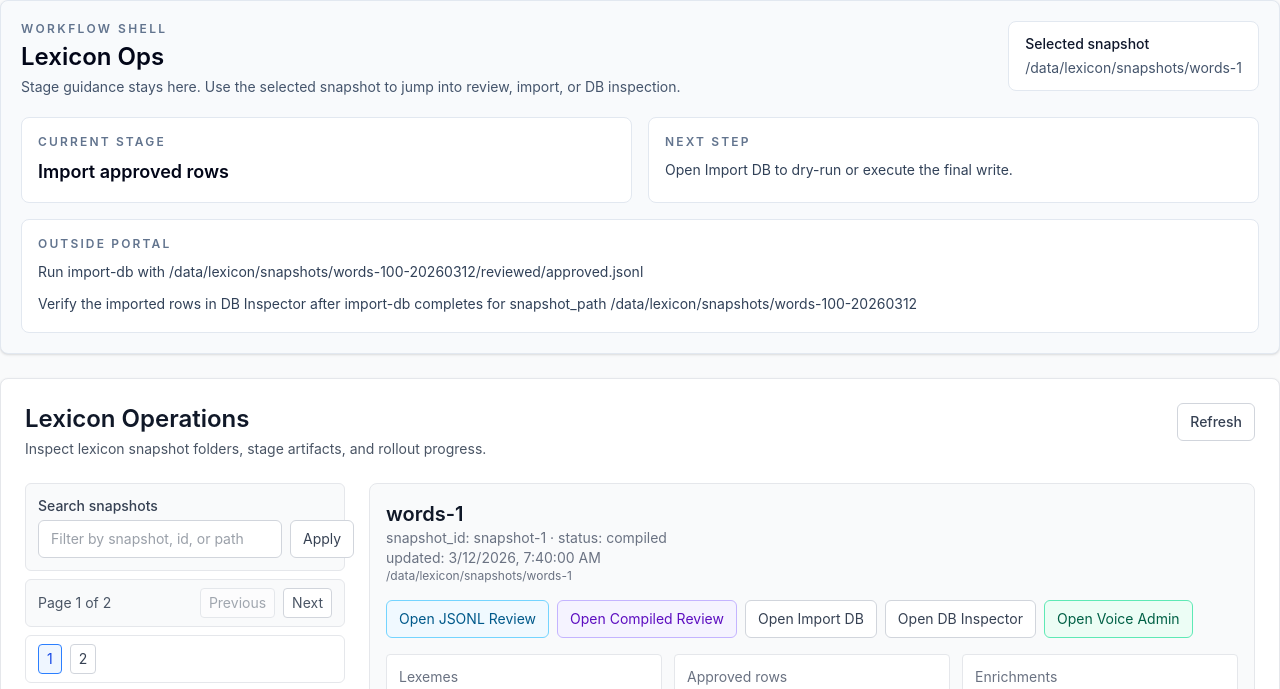
Test: LexiconOpsPage › filters snapshots by search before pagination
This screenshot has width=1280, height=689.
In the field with test id "lexicon-ops-snapshots-search": (160, 539) [38,520,282,558], type "target"
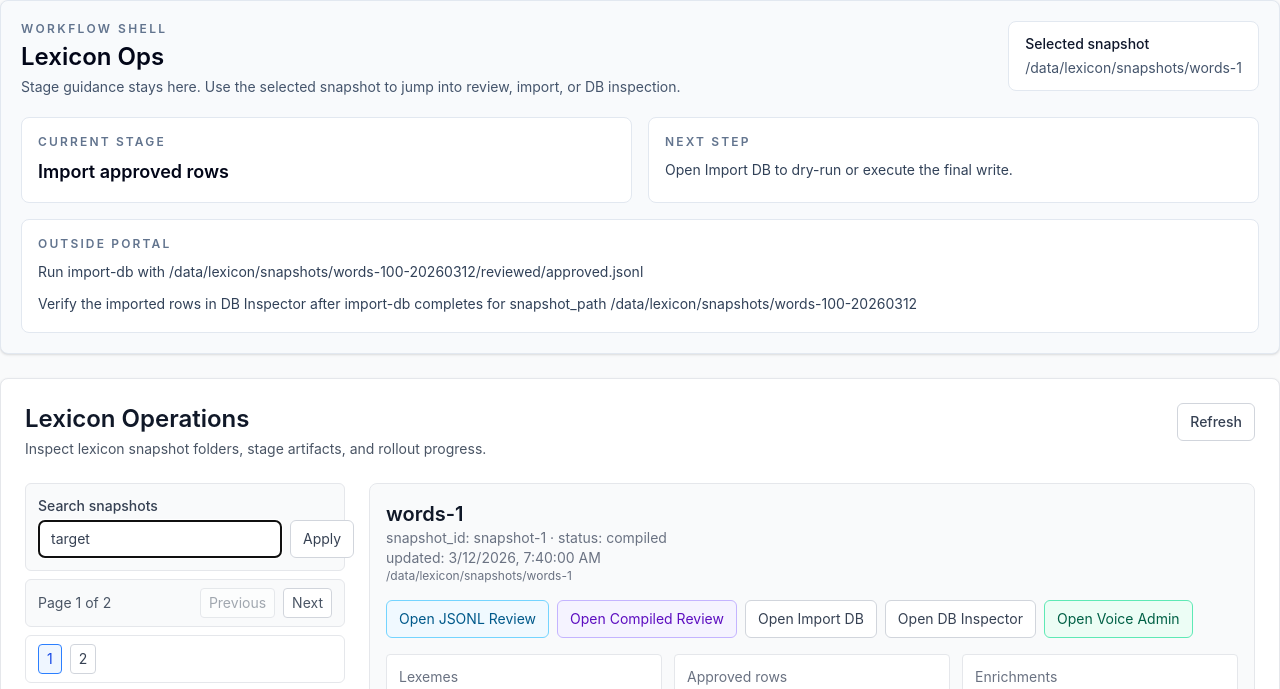
Click the button "Apply": (322, 539) [290,520,354,558]
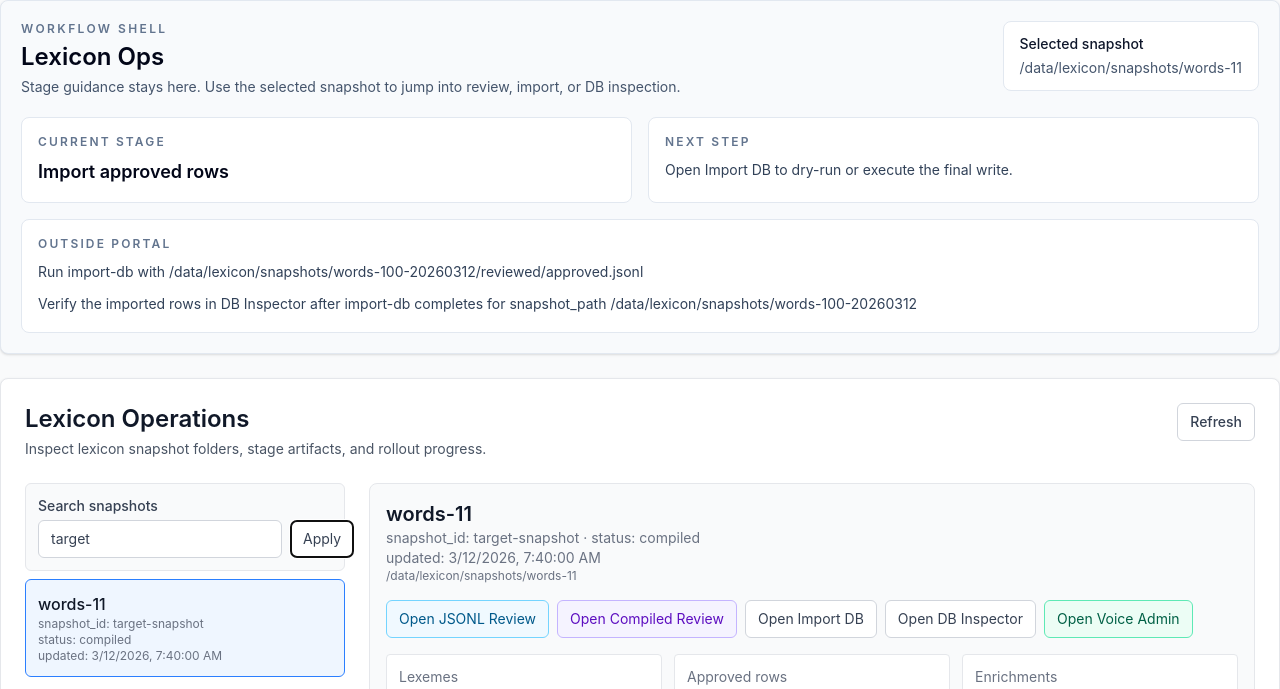
Expected: the button with test id "lexicon-ops-snapshot-words-11" is shown, [25,579,345,677]
Expected: the button with test id "lexicon-ops-snapshots-page-2" is gone
